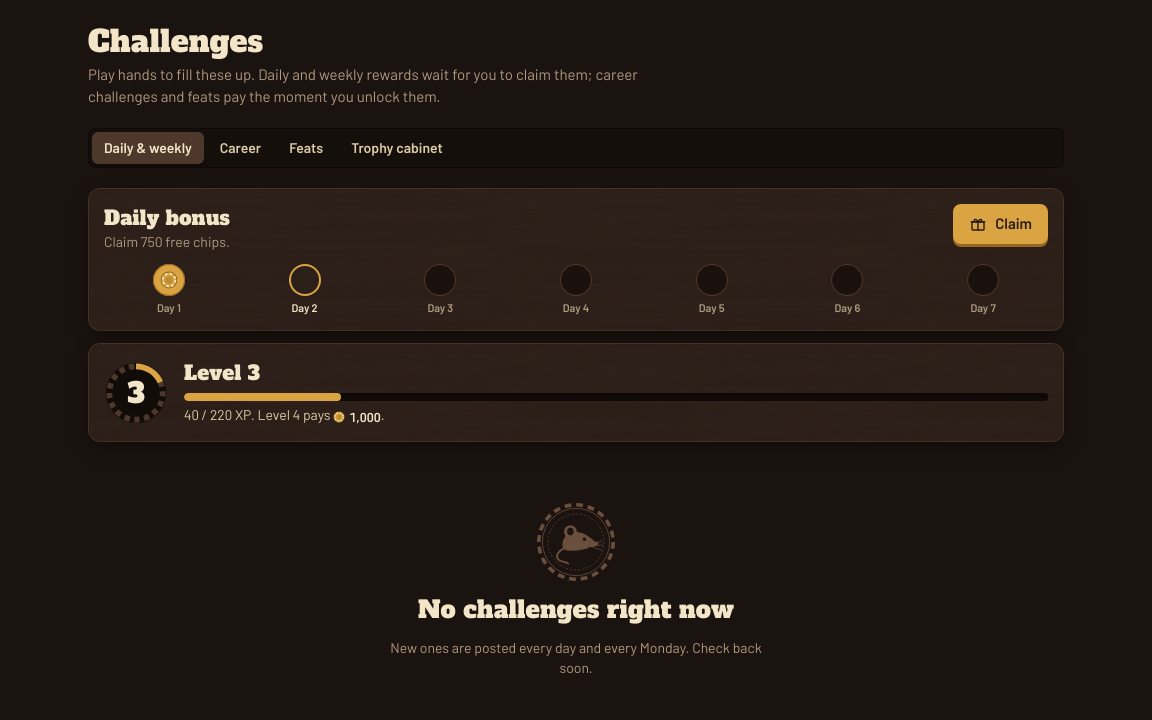
Test: ChallengesScreen › claims the daily bonus from its card
This screenshot has width=1152, height=720.
Expected: the text "Claim 750 free chips." is shown, [104,232,230,252]
Click the button "Claim" at (1001, 224), box [953,204,1048,244]
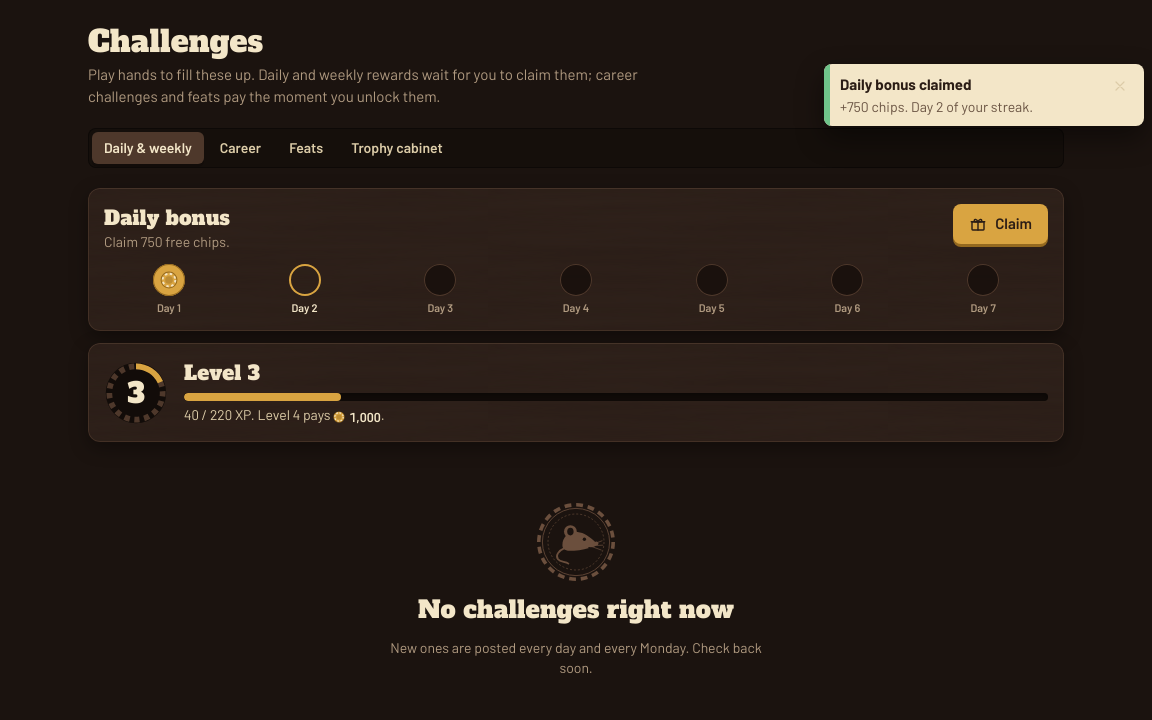
Expected: the text "Daily bonus claimed" is shown, [840,75,972,93]
